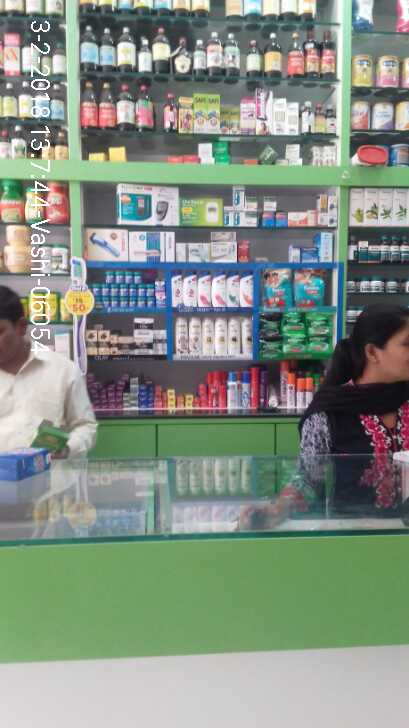beauty: (166, 273, 257, 311), (85, 316, 165, 359), (170, 314, 252, 355)
pharmacy: (85, 255, 166, 308), (260, 308, 329, 355), (263, 268, 330, 306)
